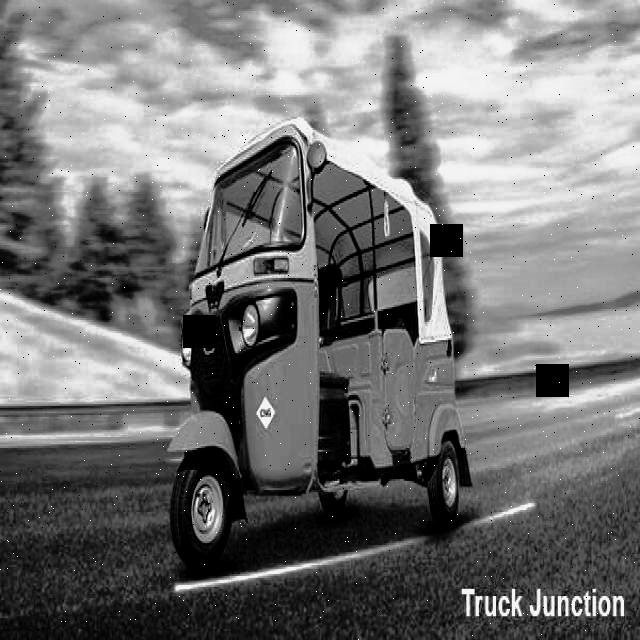Auto-Rickshaw: (171, 143, 503, 575)
